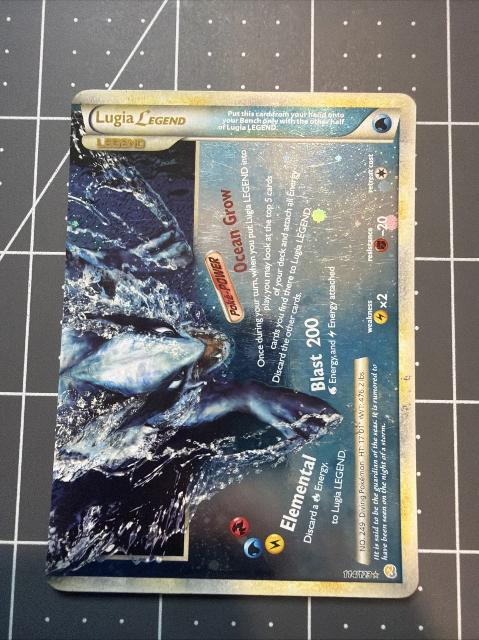Card: (41, 85, 424, 601)
Name: (90, 105, 195, 133)
